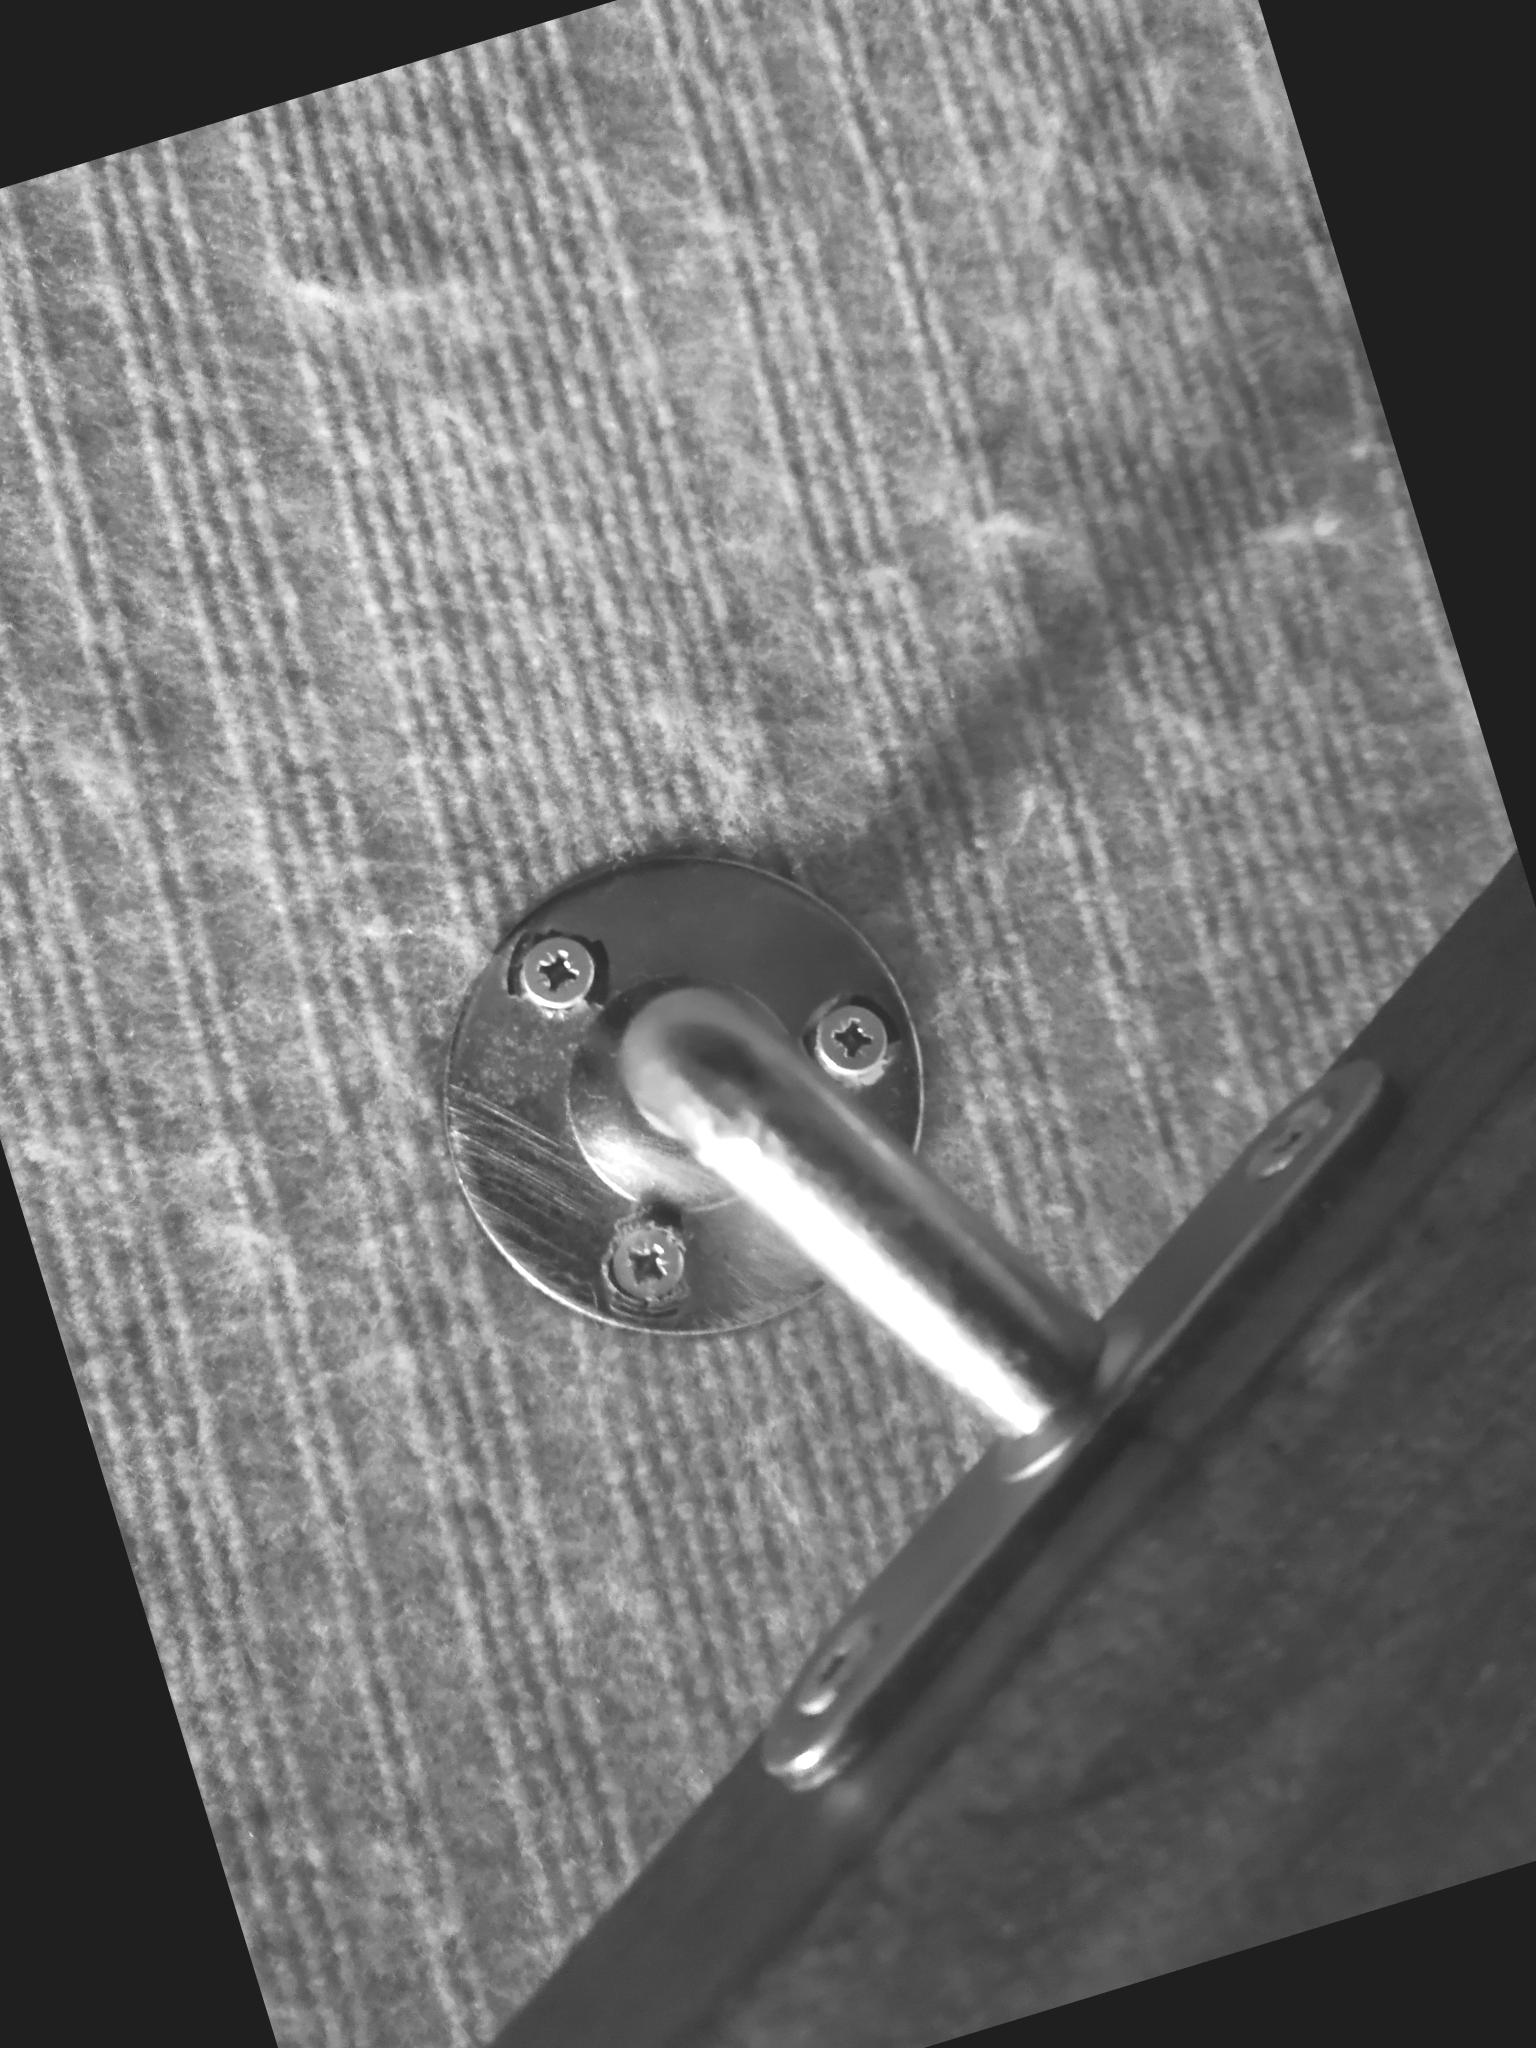screw: (582, 1197, 708, 1321), (502, 918, 613, 1027), (800, 985, 904, 1087)
